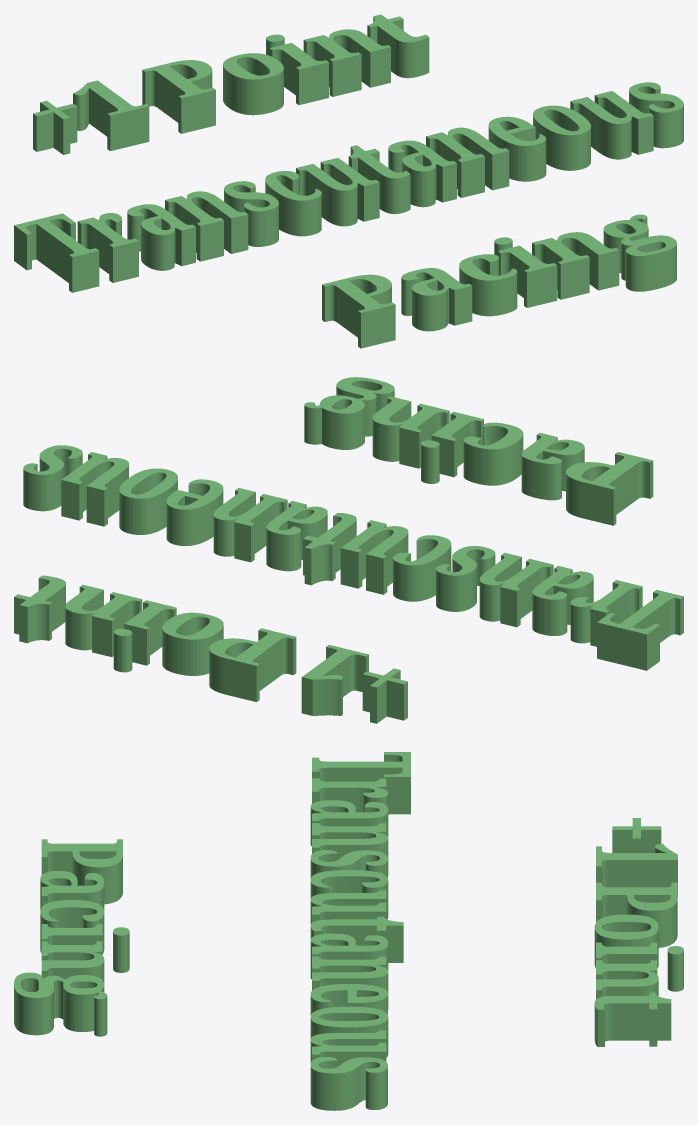
The model's file is poscutpac.gltf.
The picture shows the model from 3 angles, top to bottom: view 1: azimuth 30°, elevation 25°; view 2: azimuth 150°, elevation 25°; view 3: azimuth 270°, elevation 25°; orthographic projection. The views are drawn at different scales.
Visible parts, largest first — view 1: Mesh_Mesh_head_geo001_lambert2SG001; view 2: Mesh_Mesh_head_geo001_lambert2SG001; view 3: Mesh_Mesh_head_geo001_lambert2SG001.
Boxes of the visible parts, bbox=[...] form: Mesh_Mesh_head_geo001_lambert2SG001: bbox=[14, 14, 683, 348]; Mesh_Mesh_head_geo001_lambert2SG001: bbox=[14, 377, 683, 723]; Mesh_Mesh_head_geo001_lambert2SG001: bbox=[14, 752, 683, 1110].
Bounding box in the file's own units: 185 × 10 × 163.
